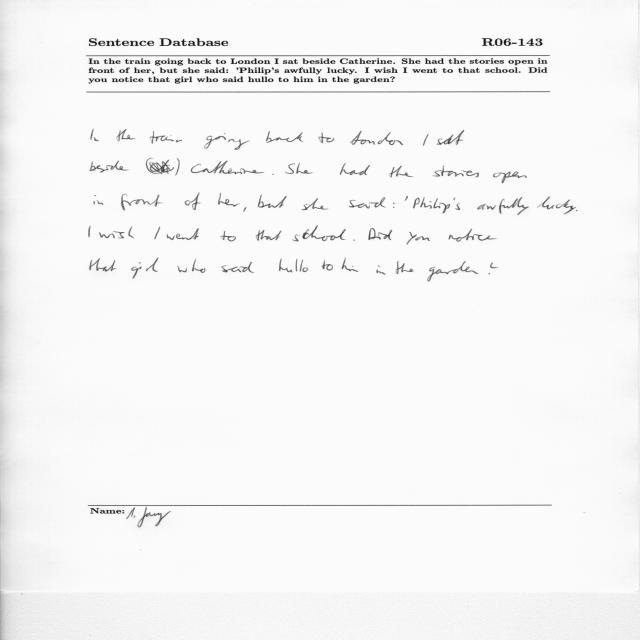word: (191, 161, 264, 175), (427, 261, 478, 281), (477, 197, 529, 215), (292, 226, 346, 241), (204, 133, 250, 150), (351, 131, 404, 145), (537, 197, 576, 215), (121, 194, 162, 210), (448, 229, 496, 242), (146, 158, 180, 176), (413, 197, 450, 213), (131, 258, 159, 278), (433, 166, 479, 178), (90, 161, 129, 173), (266, 131, 303, 143), (349, 197, 385, 209), (437, 130, 465, 145), (99, 227, 134, 239), (178, 258, 206, 273), (150, 131, 182, 144), (279, 259, 308, 273), (166, 228, 199, 240), (90, 258, 117, 272), (258, 195, 287, 208), (493, 172, 527, 183), (222, 262, 255, 273), (340, 164, 370, 176), (302, 198, 329, 210), (285, 163, 313, 174), (218, 193, 240, 207), (407, 232, 430, 245), (389, 166, 413, 178), (369, 228, 393, 240), (256, 230, 282, 241), (185, 193, 201, 210), (396, 261, 415, 274), (117, 129, 136, 141), (342, 258, 358, 272), (318, 132, 334, 143), (220, 231, 236, 241), (488, 263, 498, 275), (376, 265, 386, 275), (322, 261, 333, 270), (94, 195, 103, 205), (91, 129, 98, 141), (453, 198, 460, 210), (155, 227, 161, 239), (423, 134, 428, 146), (89, 226, 91, 237), (243, 207, 247, 212), (404, 196, 408, 201), (393, 202, 395, 208), (353, 239, 355, 241), (272, 174, 274, 175), (576, 210, 578, 211)
